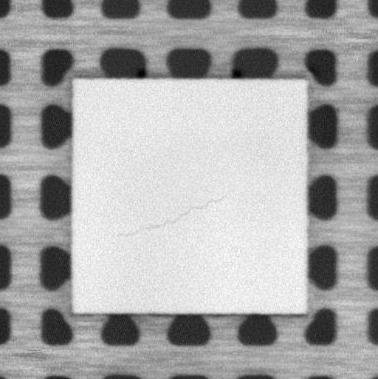DIE_CRACK: (115, 197, 220, 237)
